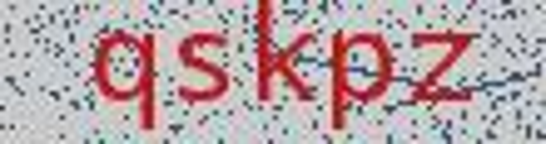k: (245, 2, 320, 117)
p: (327, 20, 395, 136)
q: (78, 22, 170, 138)
s: (171, 18, 242, 116)
z: (407, 27, 476, 119)
